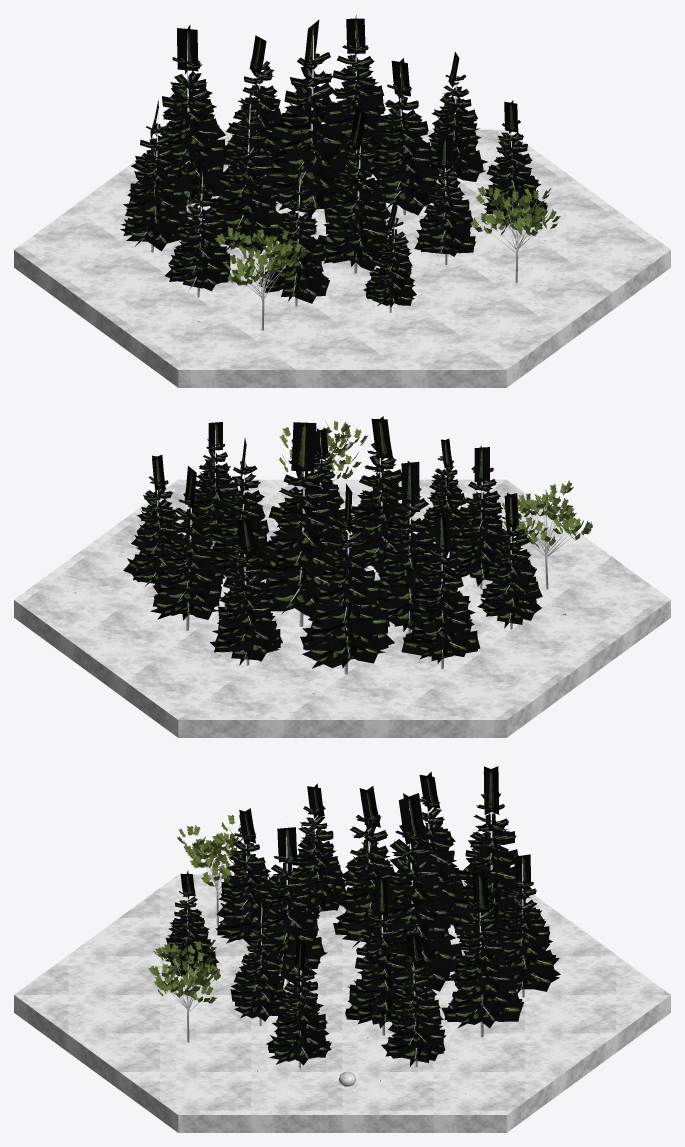
File: bosque.glb
3 renders of one model, top to bottom at view 1: azimuth 30°, elevation 25°; view 2: azimuth 150°, elevation 25°; view 3: azimuth 270°, elevation 25°, orthographic.
Parts seen in each view (by area): view 1: bosque.004; view 2: bosque.004; view 3: bosque.004.
Part boxes in pixels (box(x1,y1,x2,y2)): bosque.004: box(14, 15, 670, 387); bosque.004: box(14, 416, 670, 737); bosque.004: box(14, 766, 670, 1132).
Size of the model in its own units: 3.46 by 1.48 by 4.
Materials: 5 (5 with a texture image).
